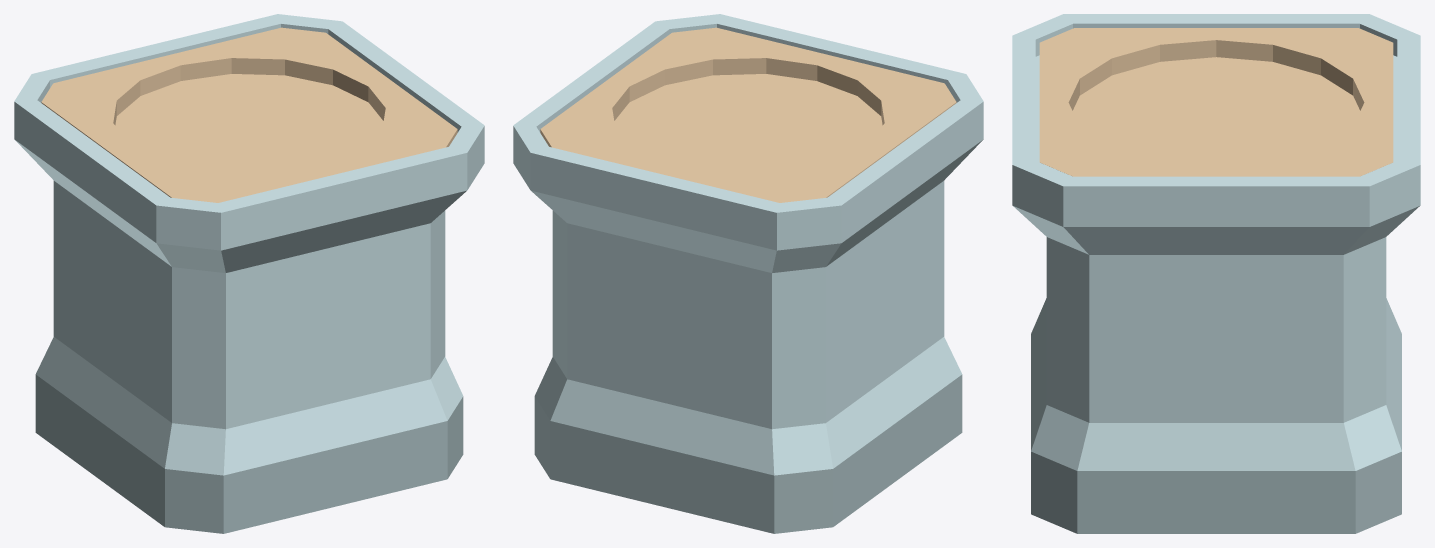
File: Tower_4_Stone.fbx
3 renders of one model, left to right at view 1: azimuth 30°, elevation 25°; view 2: azimuth 150°, elevation 25°; view 3: azimuth 270°, elevation 25°, orthographic. The views are drawn at different scales.
Visible parts, largest first — view 1: Tower_4_Stone; view 2: Tower_4_Stone; view 3: Tower_4_Stone.
Part boxes in pixels (box(x1,y1,x2,y2)): Tower_4_Stone: box(14, 14, 484, 533); Tower_4_Stone: box(513, 14, 983, 533); Tower_4_Stone: box(1012, 14, 1420, 533).
Bounding box in the file's own units: 88 × 84.55 × 88.
